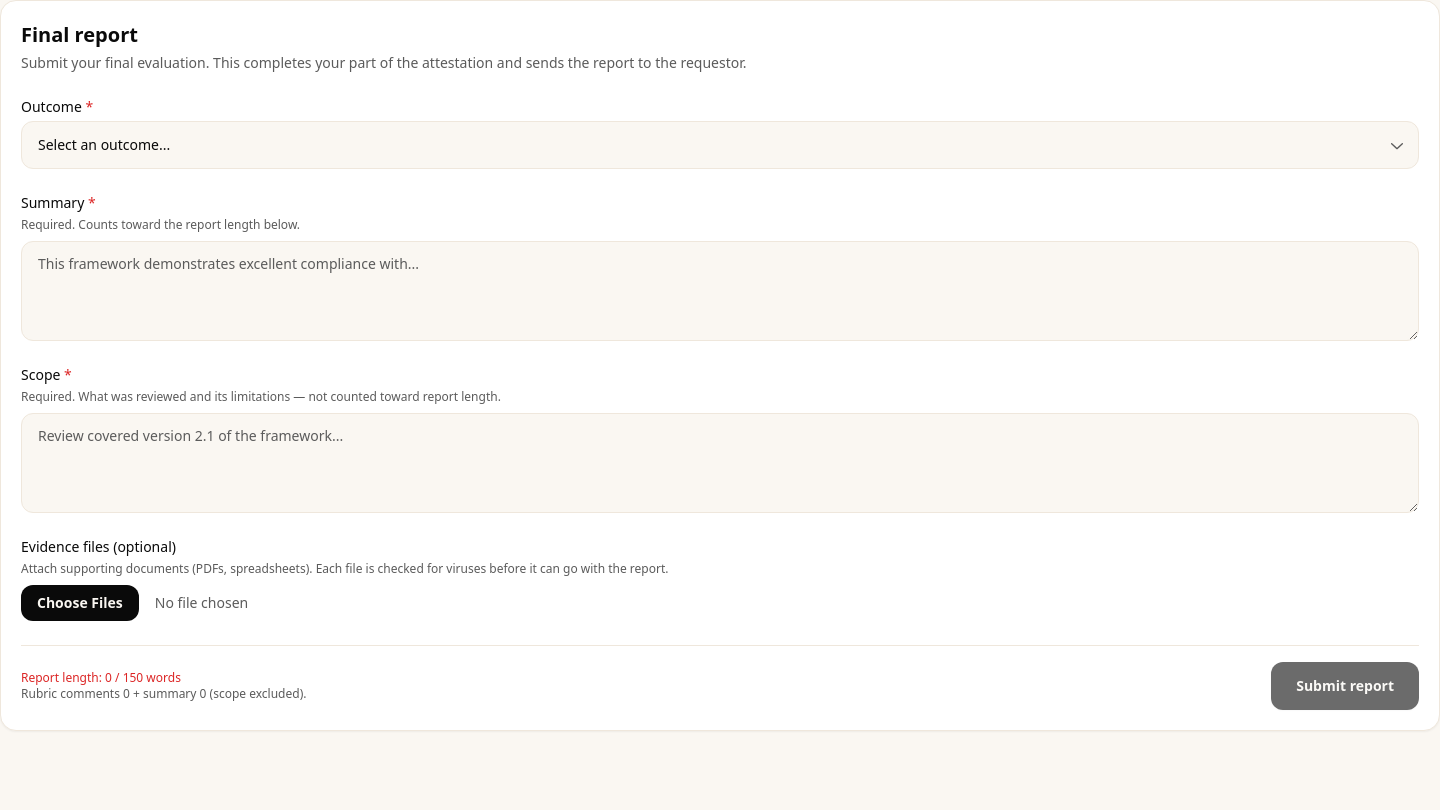
it: ReportPanel › keeps submit disabled until the required fields are present
expect the button "Submit report" is disabled: met, box x1=1271 y1=662 x2=1419 y2=710
Note: Outcome + summary but no scope must not enable submit (scope required).
Select "Approved" in the dropdown at (720, 145), box x1=21 y1=121 x2=1419 y2=169
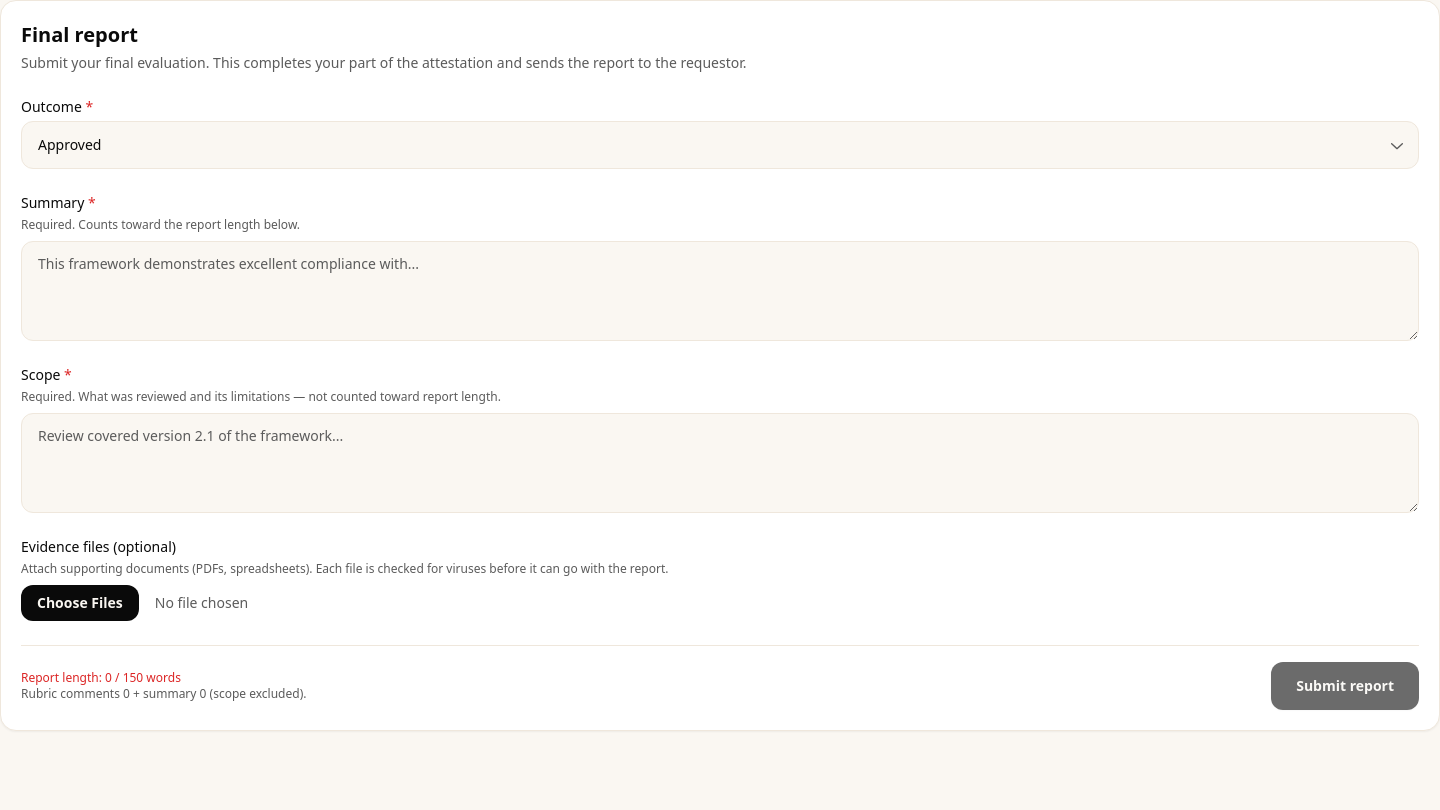
Type "This review summary is long enough for submission." into the text box with placeholder "This framework demonstrates excellent compliance with..." at (720, 291), box x1=21 y1=241 x2=1419 y2=341
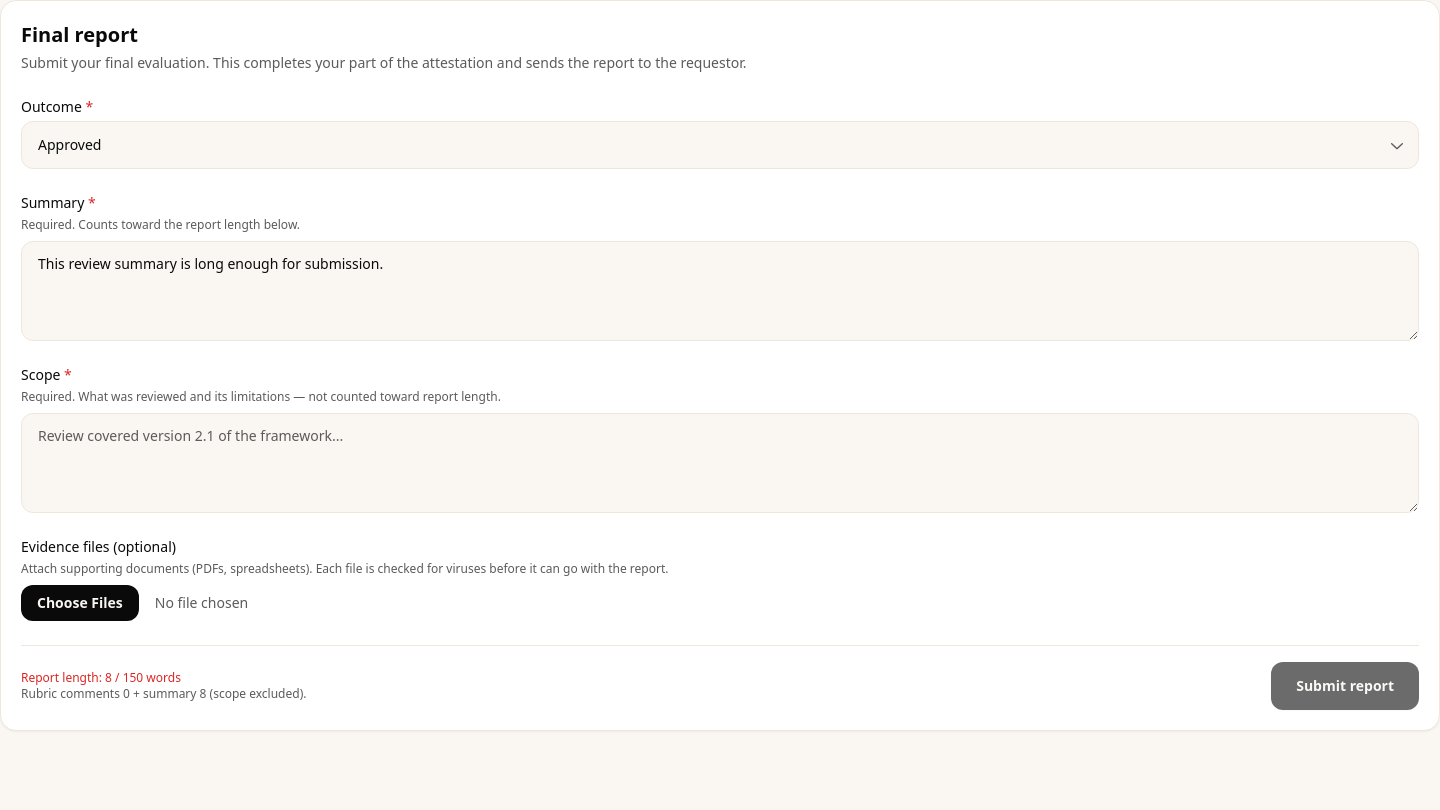
expect the button "Submit report" is disabled: met, box x1=1271 y1=662 x2=1419 y2=710
Type "Reviewed the framework artifacts and supporting notes." into the text box with placeholder "Review covered version 2.1 of the framework..." at (720, 463), box x1=21 y1=413 x2=1419 y2=513
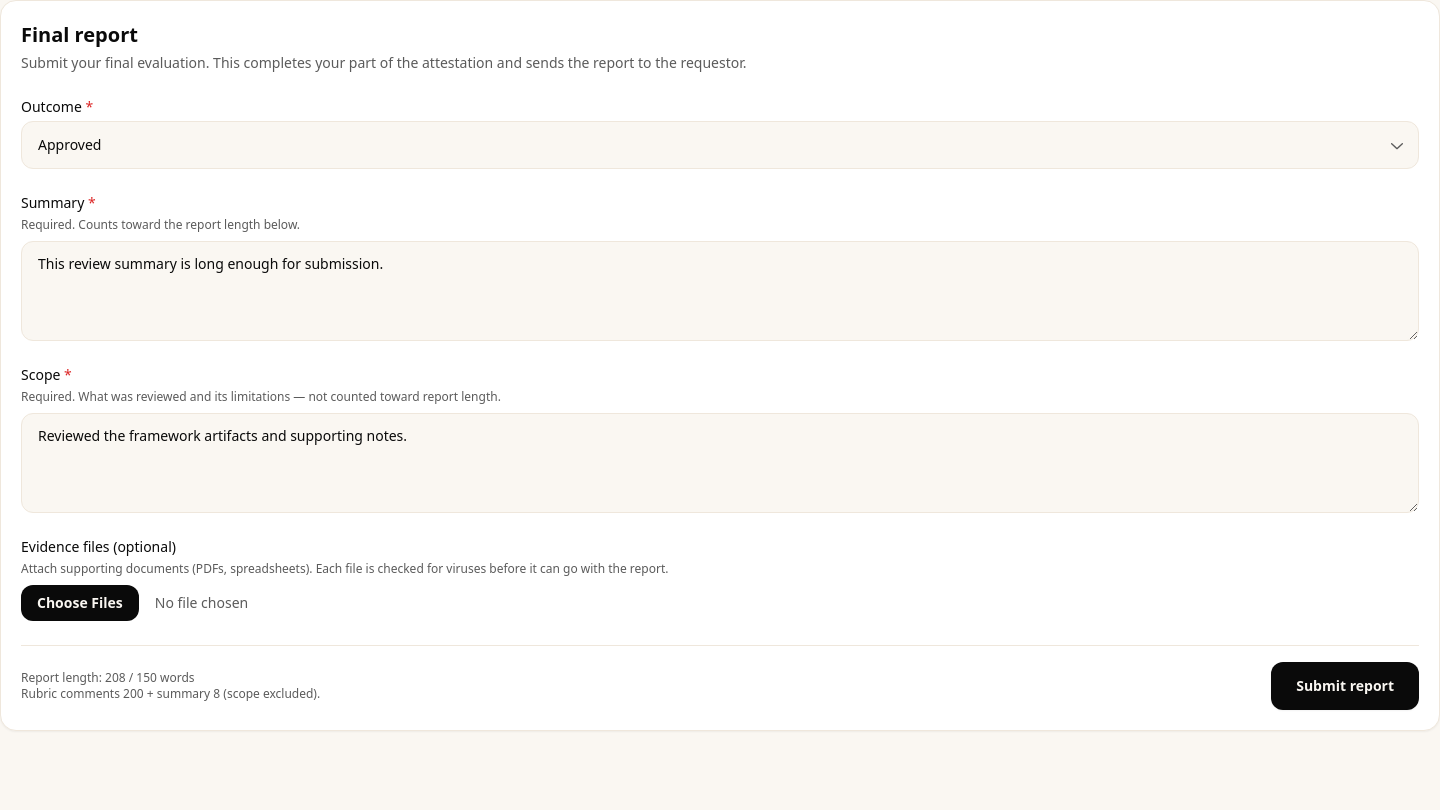
expect the button "Submit report" is enabled: met, box x1=1271 y1=662 x2=1419 y2=710
